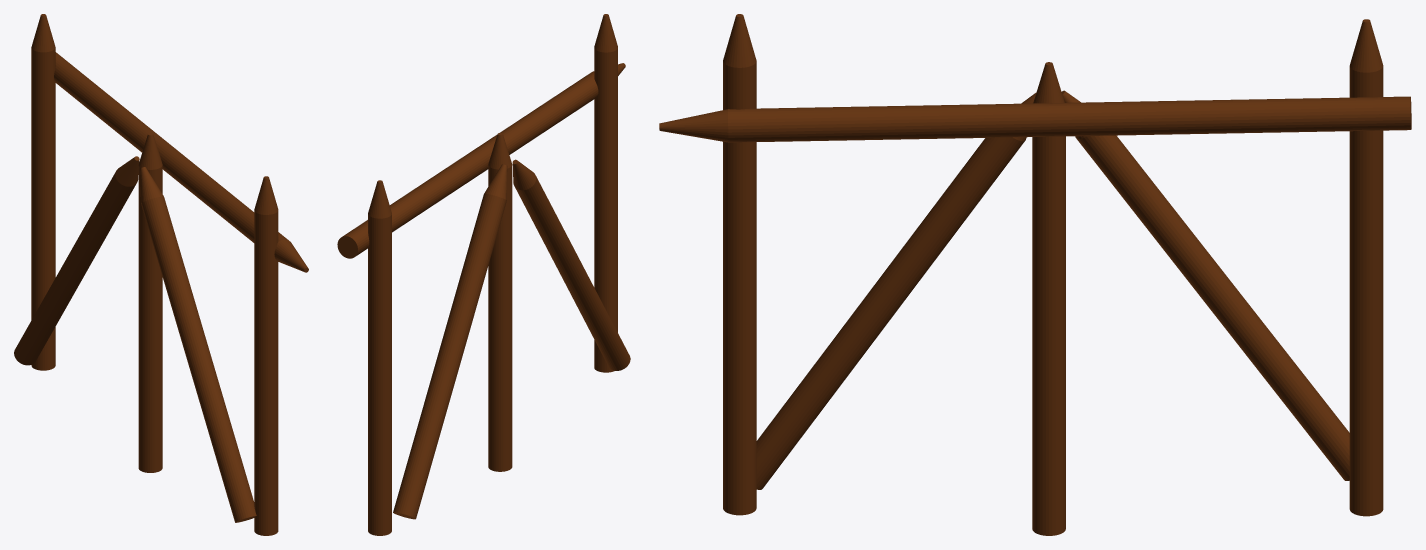
The model's file is Limites.fbx.
3 renders of one model, left to right at view 1: azimuth 30°, elevation 25°; view 2: azimuth 150°, elevation 25°; view 3: azimuth 270°, elevation 25°, orthographic. The views are drawn at different scales.
Parts seen in each view (by area): view 1: Cylinder; view 2: Cylinder; view 3: Cylinder.
Boxes of the visible parts, <box> form: Cylinder: <box>14,14,308,535</box>; Cylinder: <box>337,14,630,535</box>; Cylinder: <box>659,14,1411,535</box>.
Bounding box in the file's own units: 45.38 × 275 × 363.
